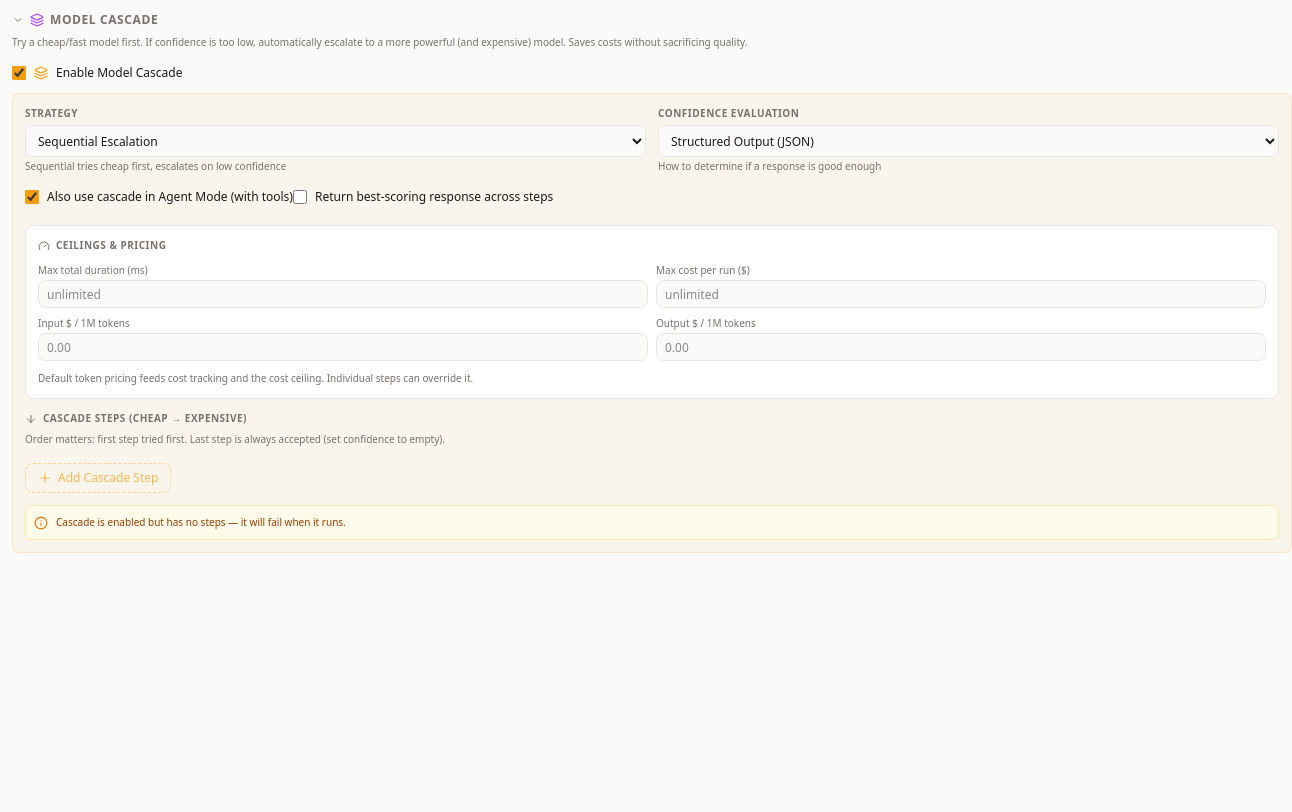
Test case: TaskCascadeSection › adds a step when the add button is clicked
Click the button with test id "add-cascade-step" at (98, 478), box [25,463,172,493]
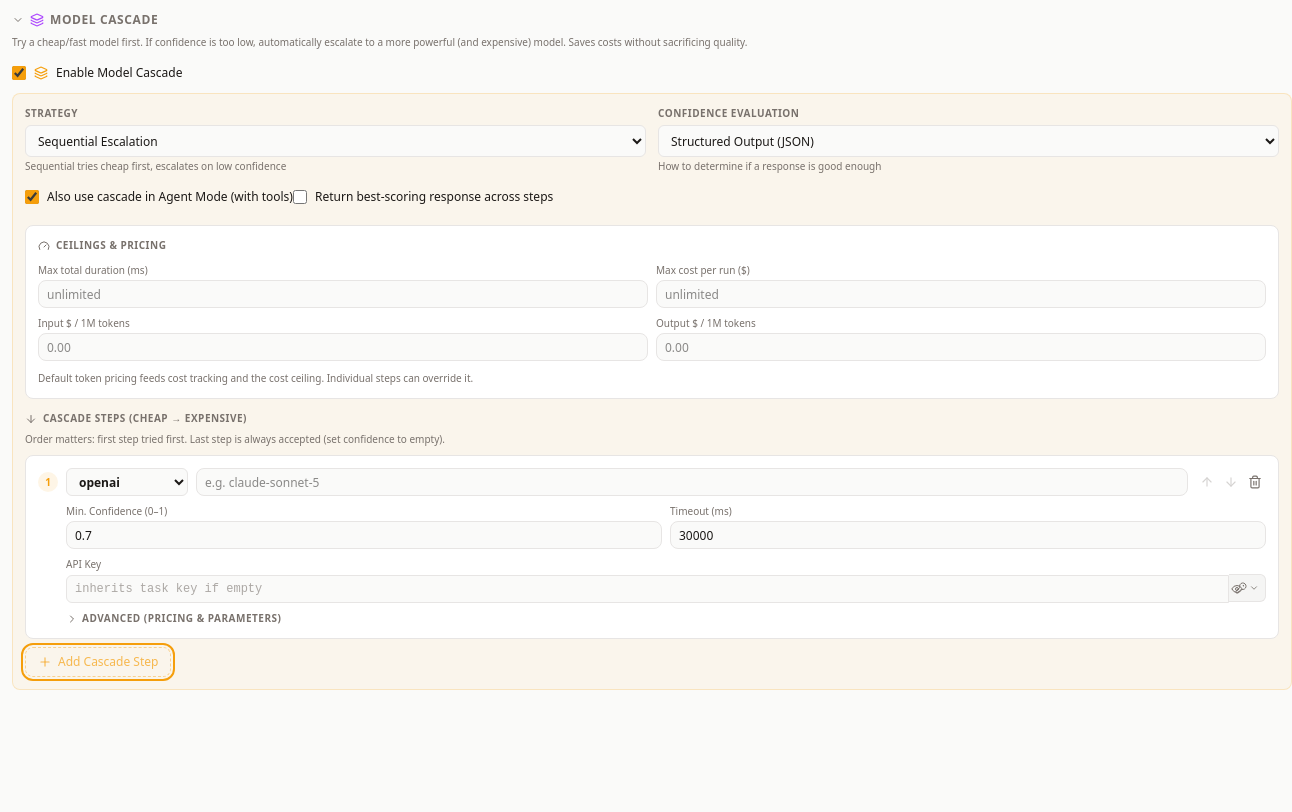
Now the element with test id "cascade-step-0" is shown, box [25,455,1279,639]
